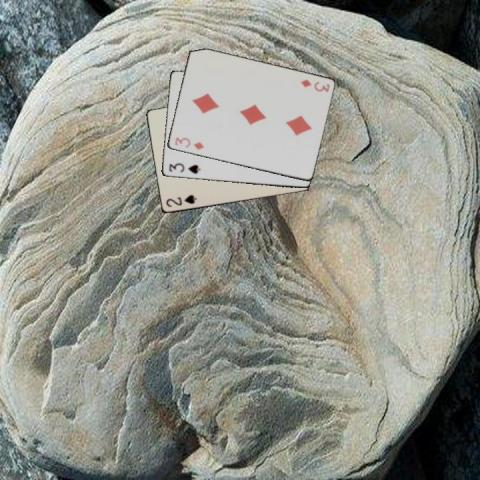2s: (163, 192, 198, 209)
3d: (172, 134, 206, 151), (297, 77, 331, 93)
3s: (166, 160, 201, 175)
